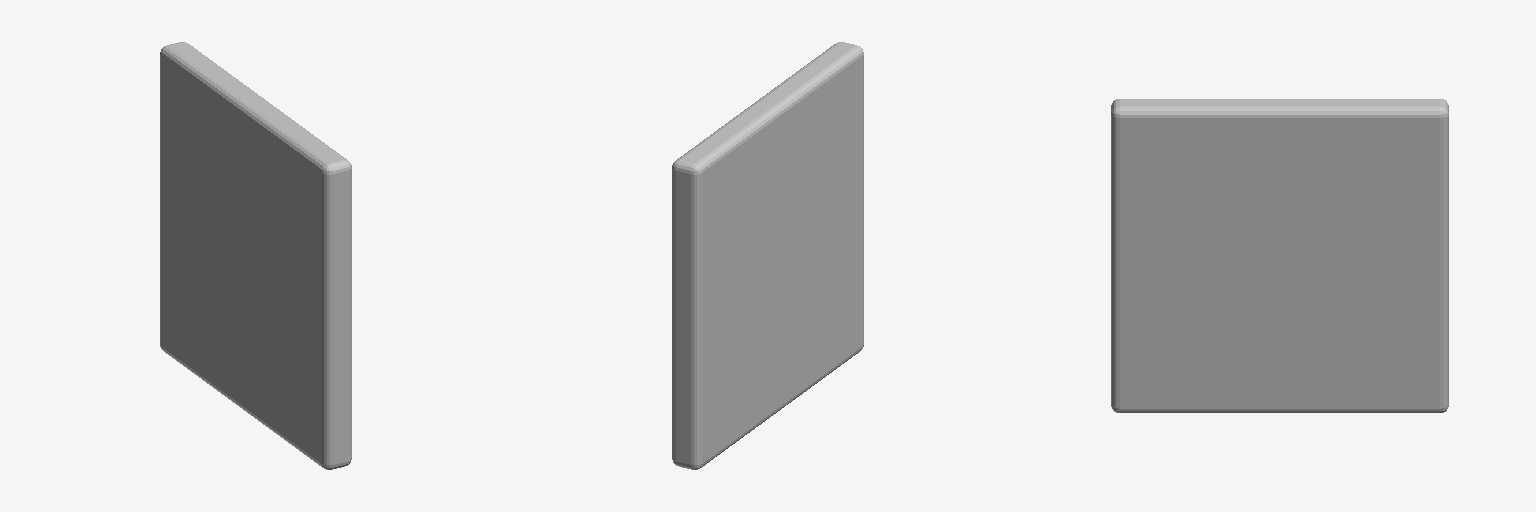
The model's file is floor.obj.
The picture shows the model from 3 angles: view 1: azimuth 30°, elevation 25°; view 2: azimuth 150°, elevation 25°; view 3: azimuth 270°, elevation 25°; orthographic projection.
Visible parts, largest first — view 1: Cube; view 2: Cube; view 3: Cube.
Boxes of the visible parts, x1=… form: Cube: x1=160, y1=42, x2=351, y2=469; Cube: x1=672, y1=42, x2=863, y2=469; Cube: x1=1111, y1=99, x2=1448, y2=412.
Size of the model in its own units: 0.4 by 4 by 4.